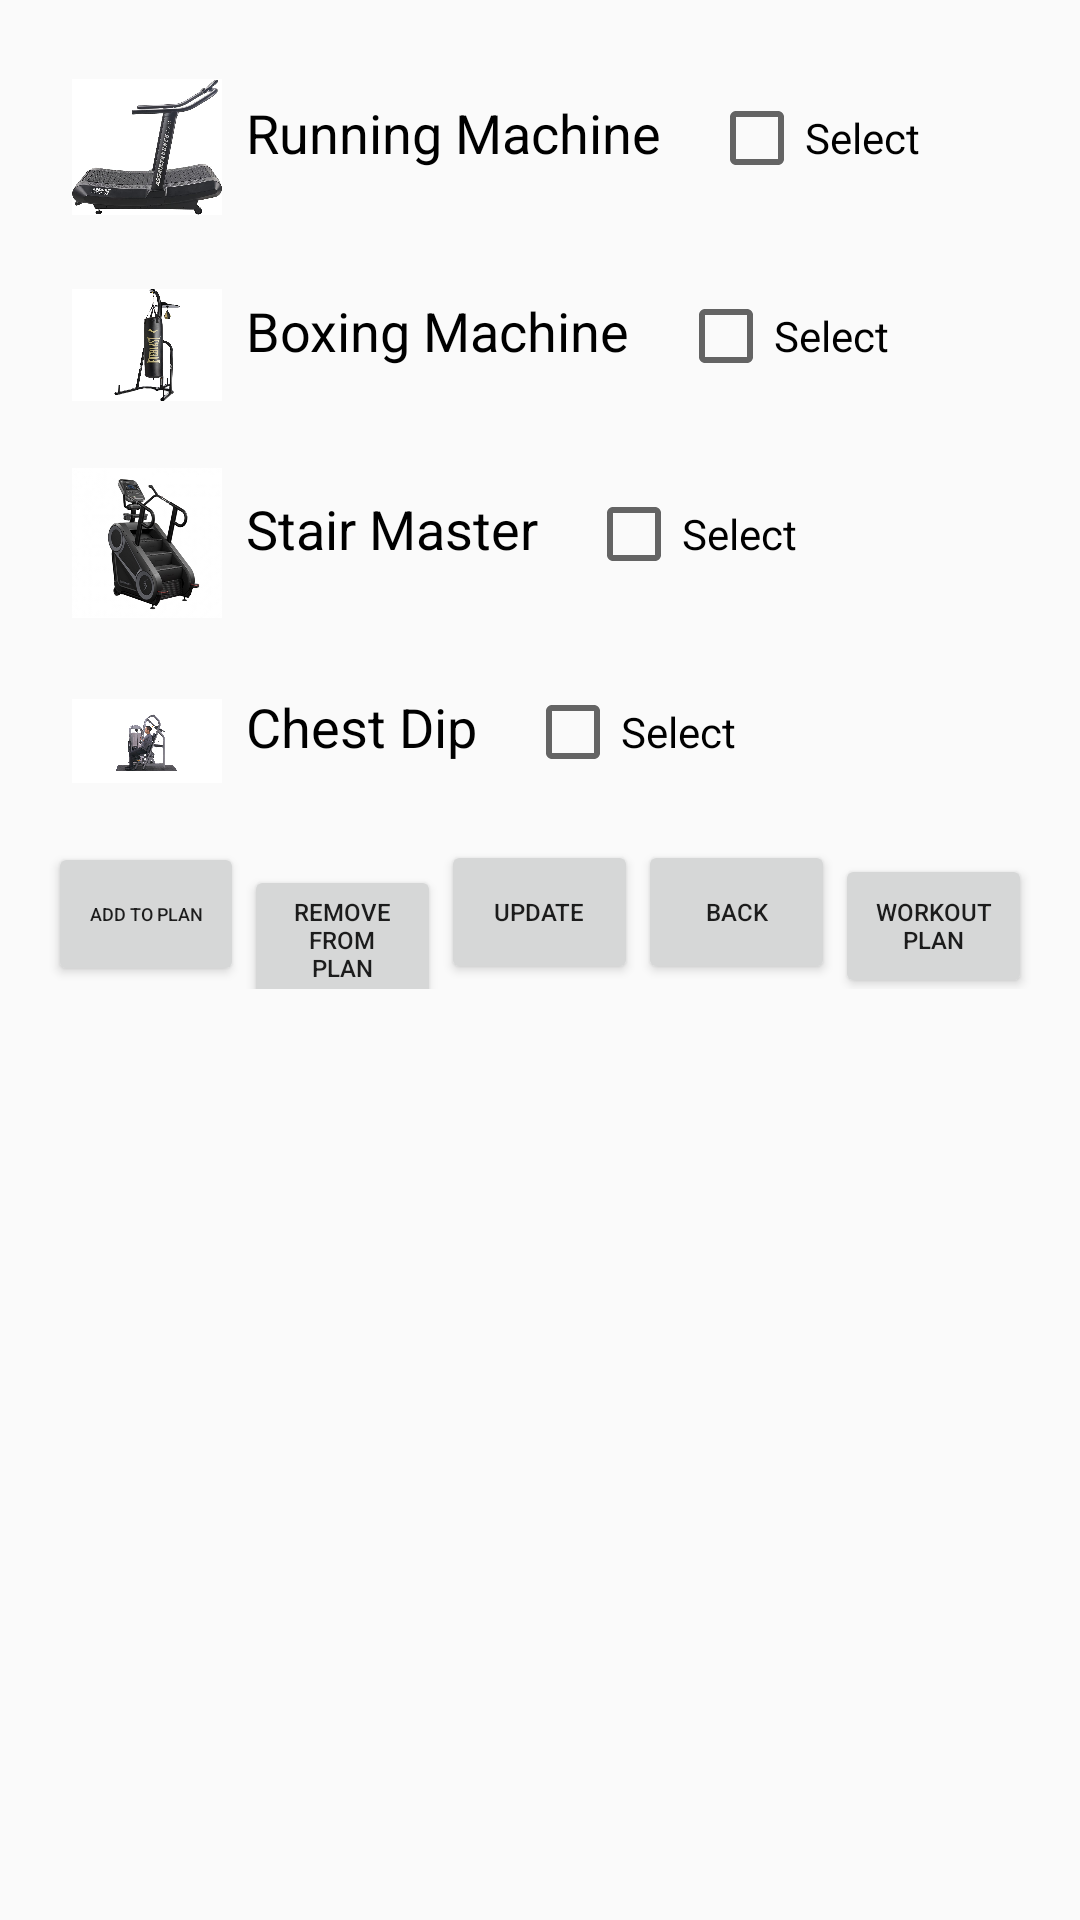

Icon click points for this 1080px×1920px phone screenshot, format [x,y]:
machine chest press: [146,743]
